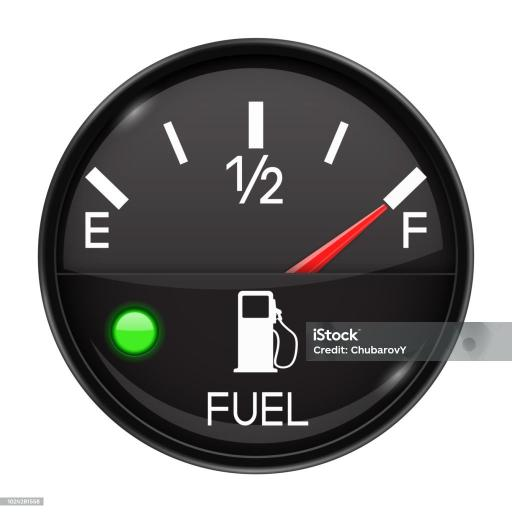empty: (84, 210, 113, 251)
fuel_icon: (226, 287, 304, 375)
full: (399, 210, 431, 252)
guage_area: (38, 38, 478, 479)
needle_tip: (368, 199, 392, 218)
